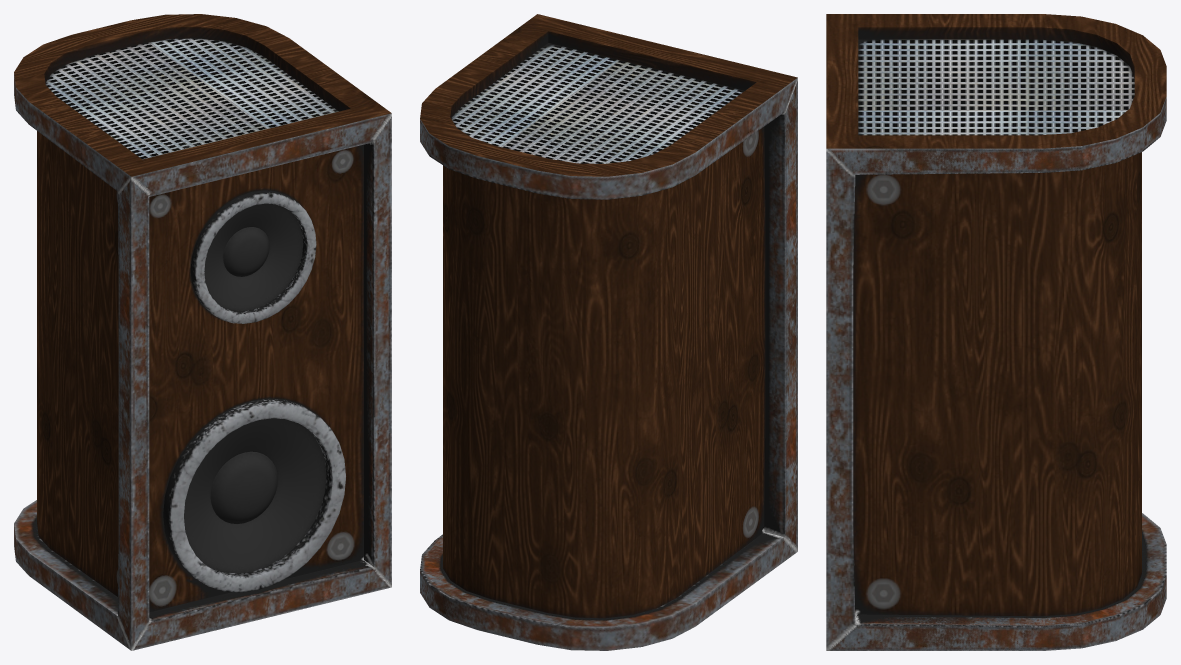
Rendered from woodspeaker.glb.
3 views of the same model, side by side, from view 1: azimuth 30°, elevation 25°; view 2: azimuth 150°, elevation 25°; view 3: azimuth 270°, elevation 25° (orthographic). The views are drawn at different scales.
Visible parts, largest first — view 1: loudspeaker; view 2: loudspeaker; view 3: loudspeaker.
Part boxes in pixels (x1,y1,x2,y2): loudspeaker: (14,14,391,650); loudspeaker: (420,14,797,650); loudspeaker: (826,14,1166,650).
Bounding box in the file's own units: 2 × 3.48 × 2.13.
Materials: 1 (1 with a texture image).
